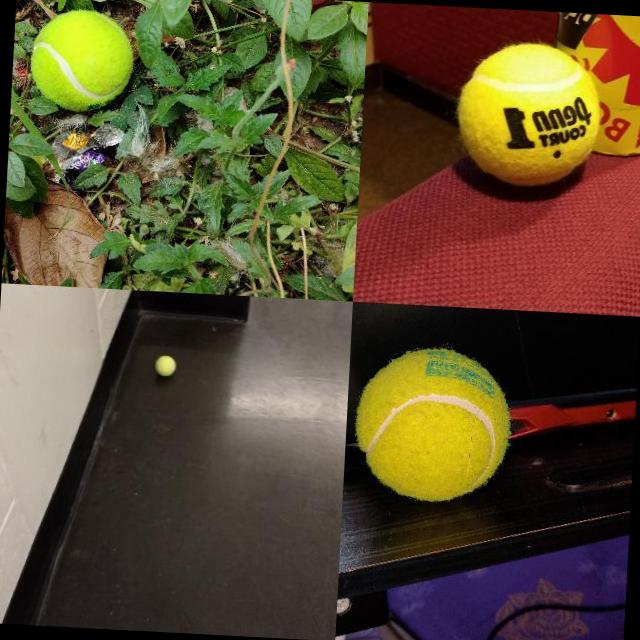Tennis Ball: (352, 343, 516, 506), (454, 39, 604, 190), (30, 9, 136, 113), (153, 354, 177, 378)
